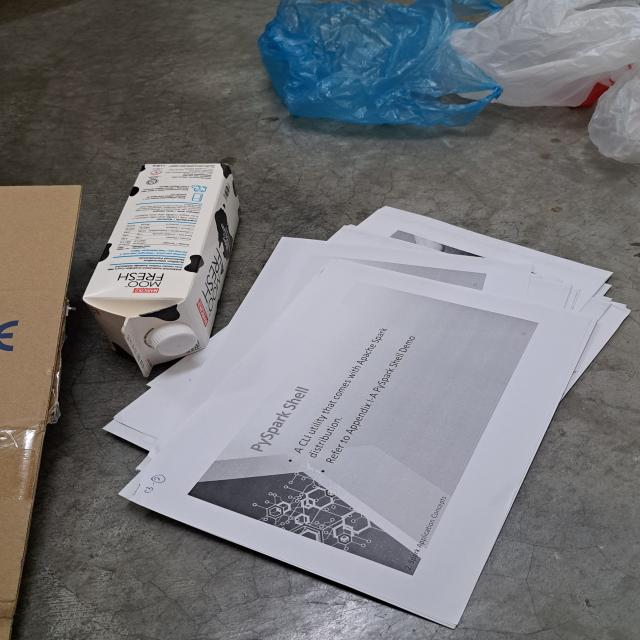cardboard: (0, 184, 87, 640)
drink carton: (83, 163, 244, 378)
paper: (101, 205, 633, 630)
plastic bag: (258, 0, 502, 123), (447, 0, 640, 109), (585, 69, 640, 162)
plastic bottle cap: (149, 323, 199, 356)
